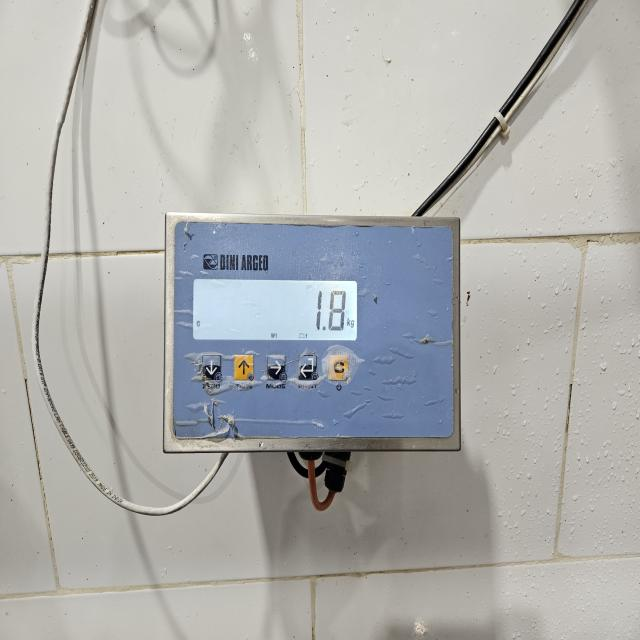.: (322, 325, 326, 331)
1: (316, 291, 322, 330)
8: (328, 290, 346, 331)
